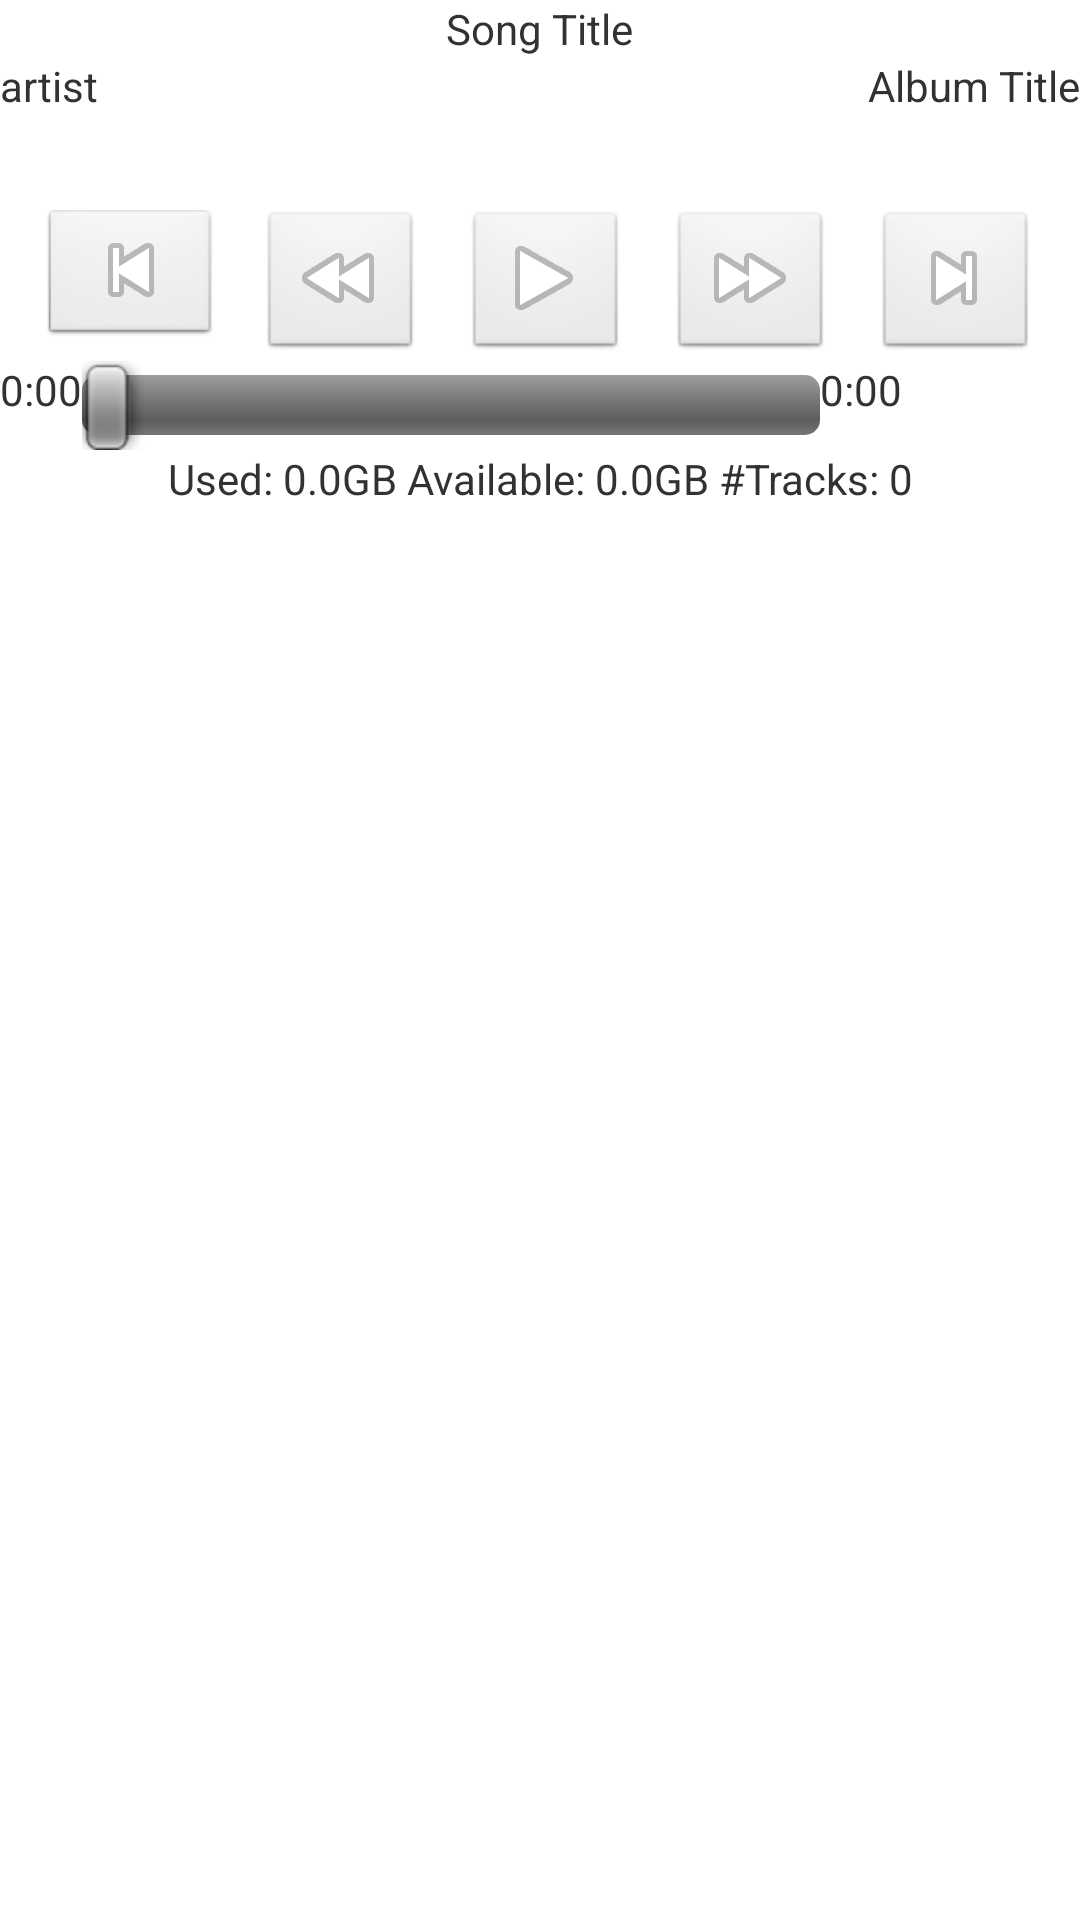

Locate icon controls on the screen. Image size 1080w x 1920h, boxes as (x1, y1, x2, y2).
Forward: (677, 212, 824, 349)
Next: (882, 212, 1029, 349)
Play: (472, 212, 619, 349)
Previous: (47, 210, 212, 335)
Rewind: (267, 212, 414, 349)
